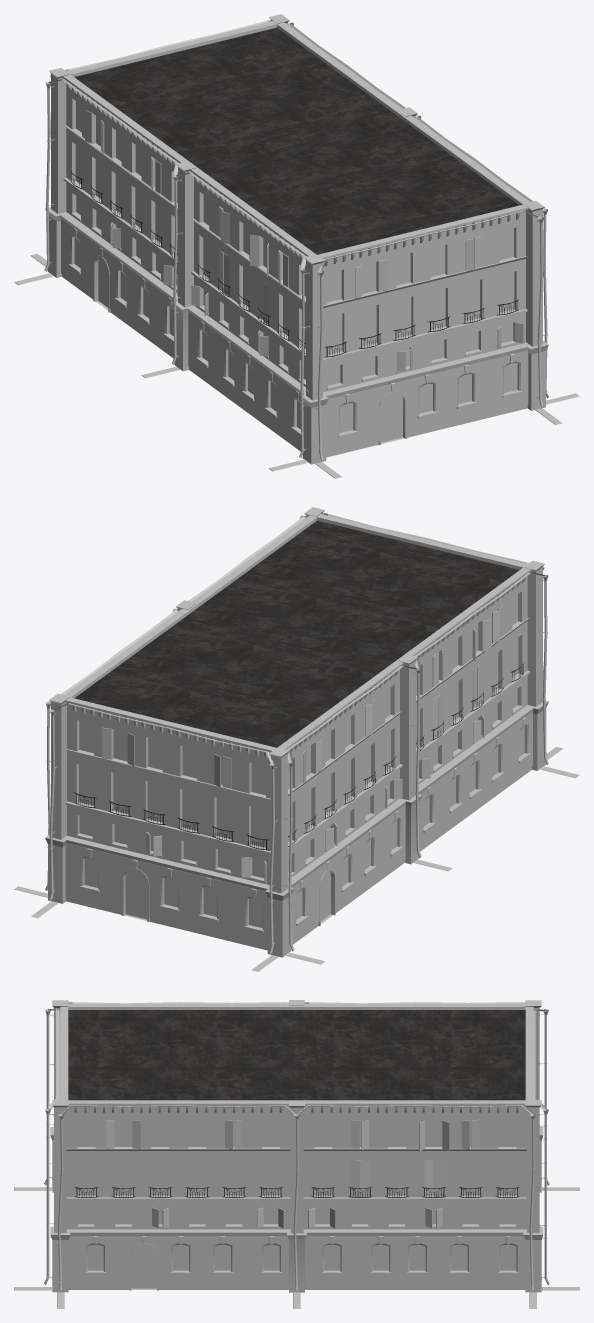
Rendered from Euro_v1_3.FBX.
The picture shows the model from 3 angles, top to bottom: view 1: azimuth 30°, elevation 25°; view 2: azimuth 150°, elevation 25°; view 3: azimuth 270°, elevation 25°; orthographic projection. The views are drawn at different scales.
Visible parts, largest first — view 1: Euro_v1_3, Euro_v1_3_roof_floor, Euro_v1_3_detail, Forged_fence_v1; view 2: Euro_v1_3, Euro_v1_3_roof_floor, Euro_v1_3_detail, Forged_fence_v1; view 3: Euro_v1_3, Euro_v1_3_roof_floor, Euro_v1_3_detail, Forged_fence_v1.
Boxes of the visible parts, x1,y1,x2,y2 form: Euro_v1_3: (45, 14, 548, 464); Euro_v1_3_roof_floor: (74, 27, 519, 254); Euro_v1_3_detail: (14, 22, 579, 478); Forged_fence_v1: (71, 171, 518, 357); Euro_v1_3: (45, 507, 548, 957); Euro_v1_3_roof_floor: (74, 520, 519, 747); Euro_v1_3_detail: (14, 513, 579, 971); Forged_fence_v1: (74, 663, 523, 850); Euro_v1_3: (48, 1000, 545, 1292); Euro_v1_3_roof_floor: (68, 1010, 525, 1100); Euro_v1_3_detail: (14, 1009, 579, 1308); Forged_fence_v1: (74, 1187, 519, 1197).
Bounding box in the file's own units: 25.73 × 16.05 × 44.22.
